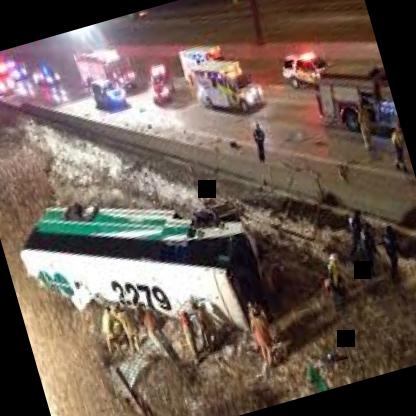accident: (0, 122, 295, 414)
